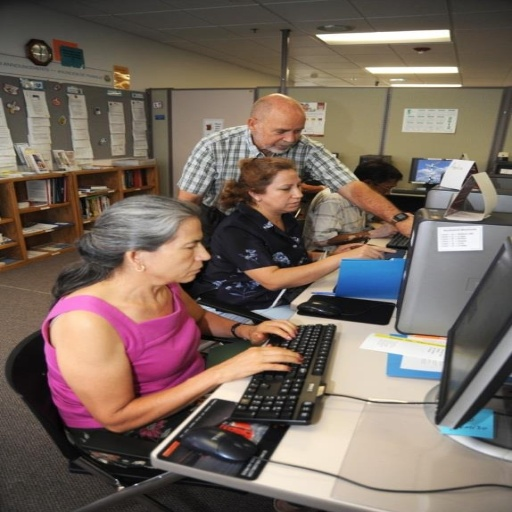hand: (216, 347, 300, 384), (248, 319, 301, 345), (338, 245, 398, 263), (390, 211, 417, 239), (327, 241, 364, 252), (371, 220, 395, 236)
